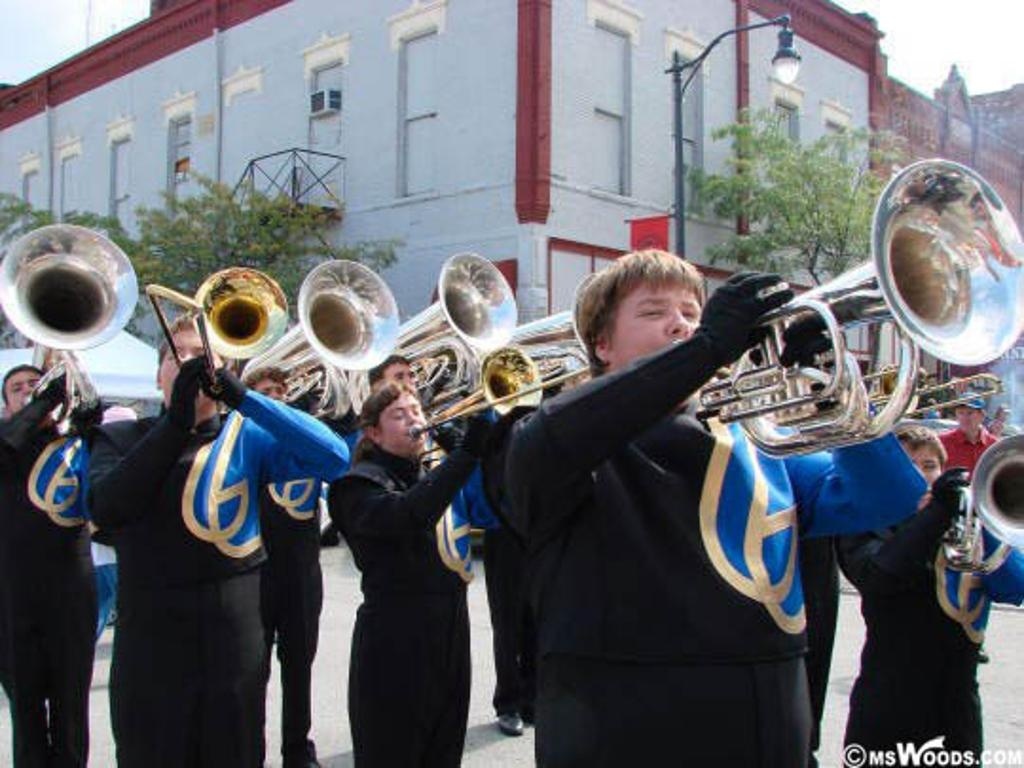human_face: (614, 290, 700, 400), (160, 332, 216, 410), (381, 394, 427, 448), (899, 443, 939, 501), (6, 372, 44, 422), (250, 380, 286, 416), (382, 366, 416, 400), (956, 406, 976, 428), (926, 376, 936, 390), (1000, 410, 1008, 418)
